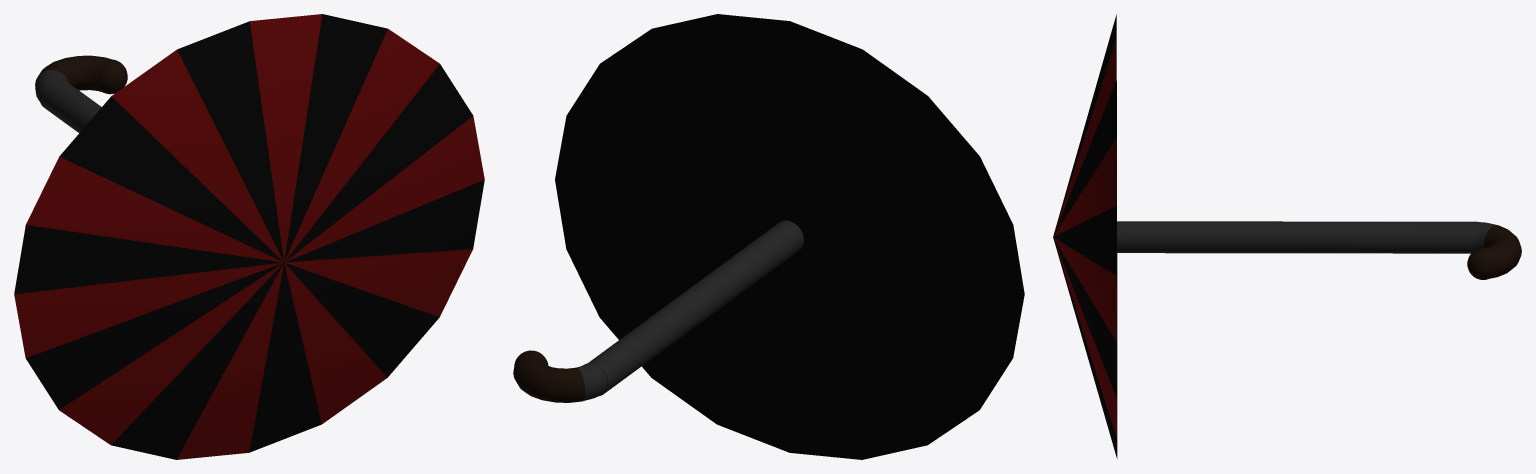
Rendered from umbrella-4.fbx.
3 renders of one model, left to right at view 1: azimuth 30°, elevation 25°; view 2: azimuth 150°, elevation 25°; view 3: azimuth 270°, elevation 25°, orthographic. The views are drawn at different scales.
Visible parts, largest first — view 1: pCone2; view 2: pCone2; view 3: pCone2.
Boxes of the visible parts, x1,y1,x2,y2 form: pCone2: [14, 14, 484, 459]; pCone2: [513, 14, 1024, 459]; pCone2: [1053, 14, 1521, 458].
Bounding box in the file's own units: 15.65 × 13.73 × 14.67.
